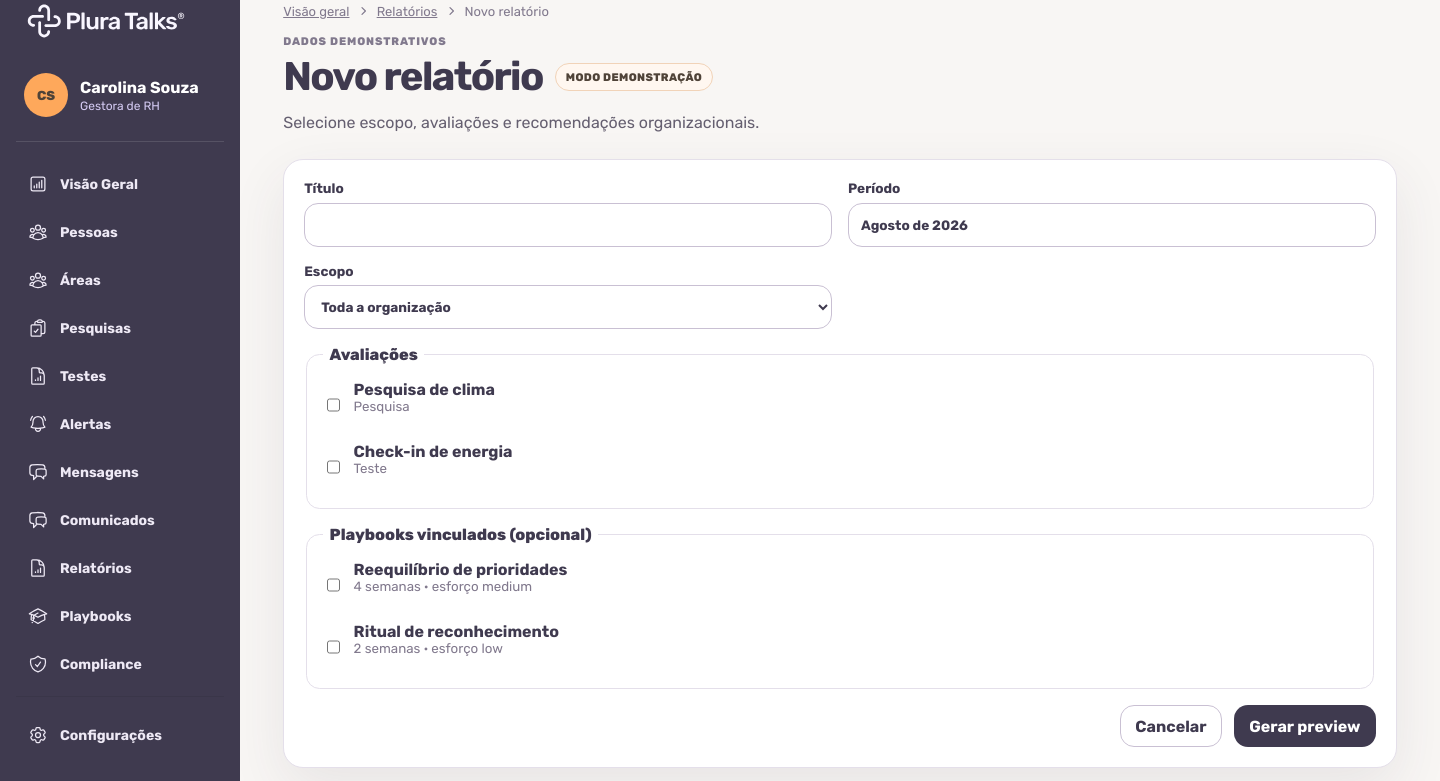
Test case: fluxo de relatórios › bloqueia o preview por área quando a coorte é insuficiente
The width and height of the screenshot is (1440, 781).
Select "Área específica" in the dropdown labelled "Escopo" at (568, 307), box [304,285,832,329]
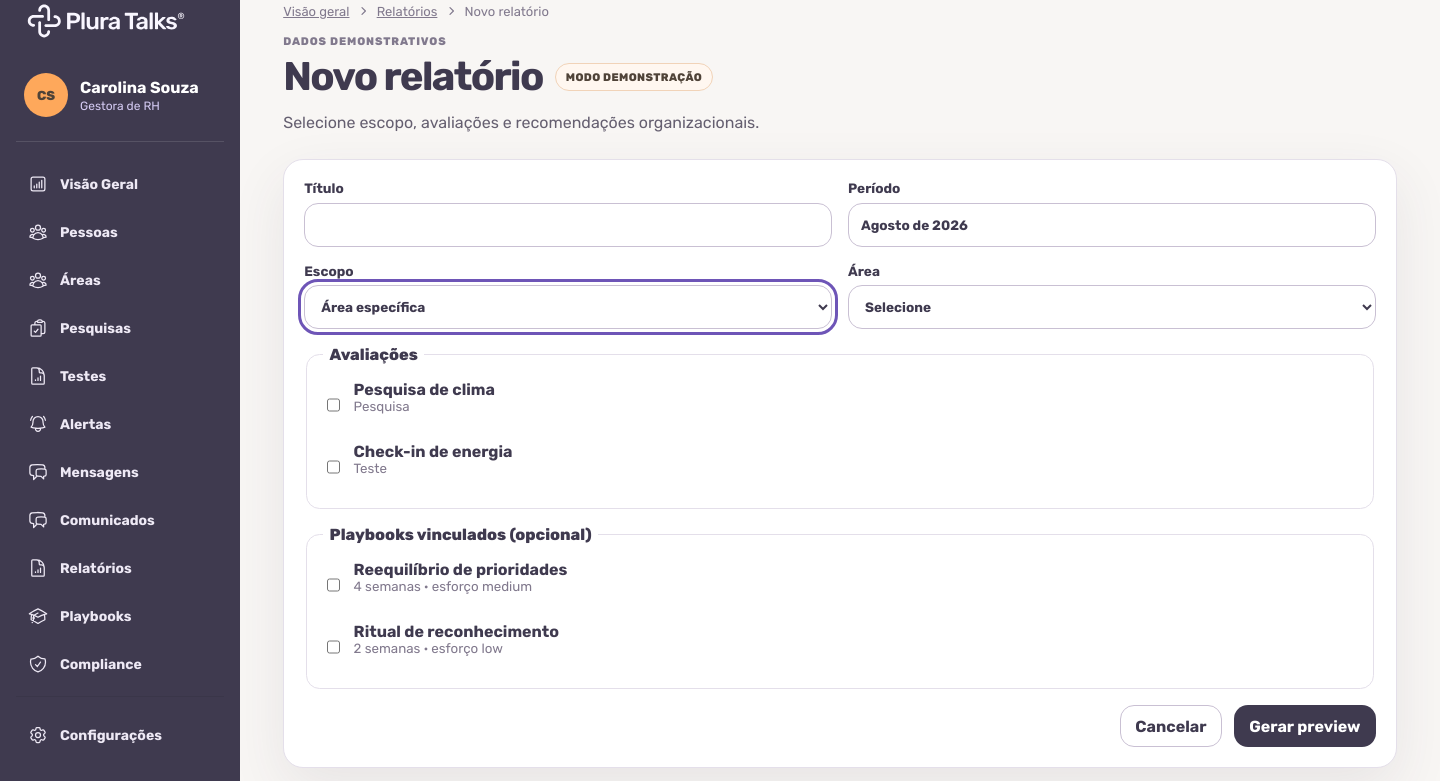
Select "Jurídico" in the dropdown labelled "Área" at (1112, 307), box [848,285,1376,329]
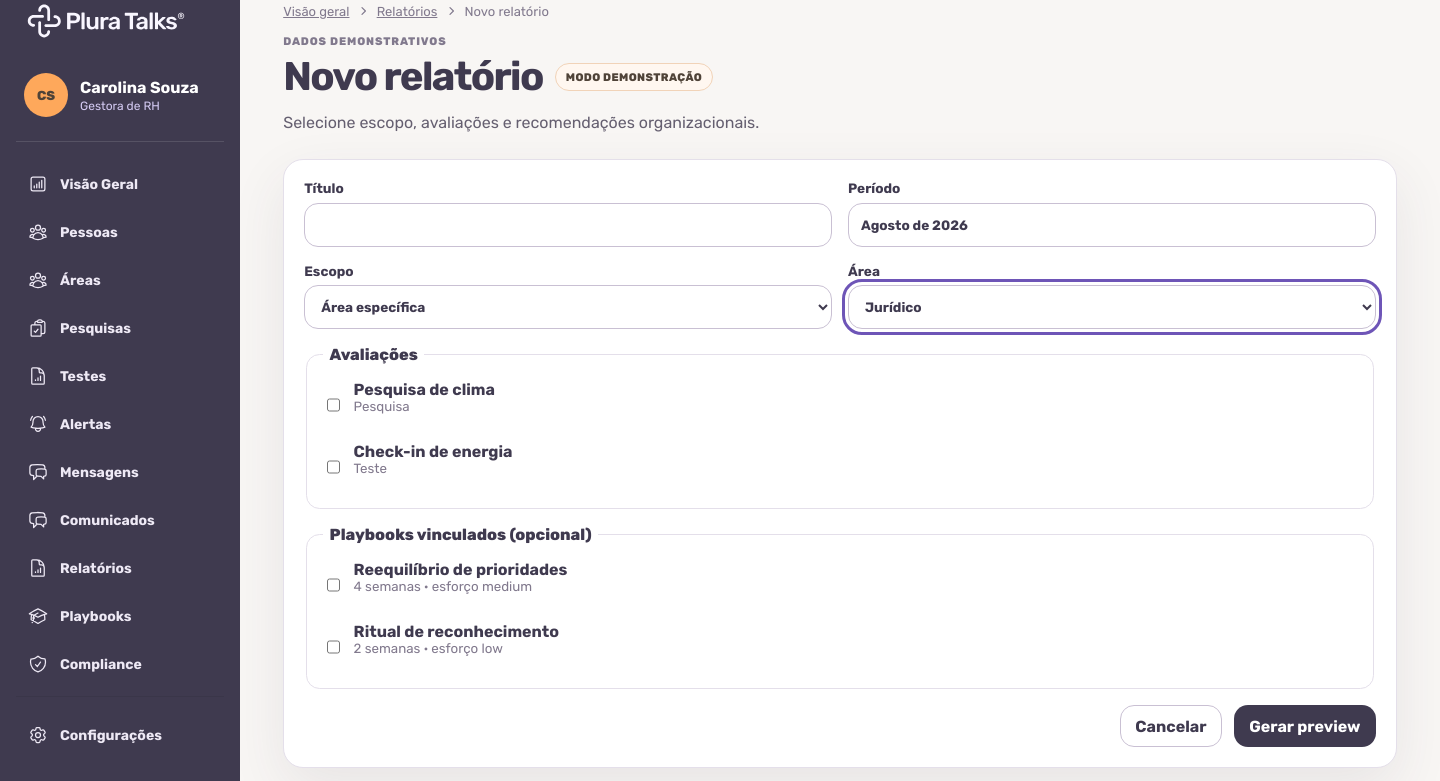
Click the checkbox labelled "Pesquisa de clima Pesquisa" at (334, 405), box [327,383,340,427]
(page scrolled)
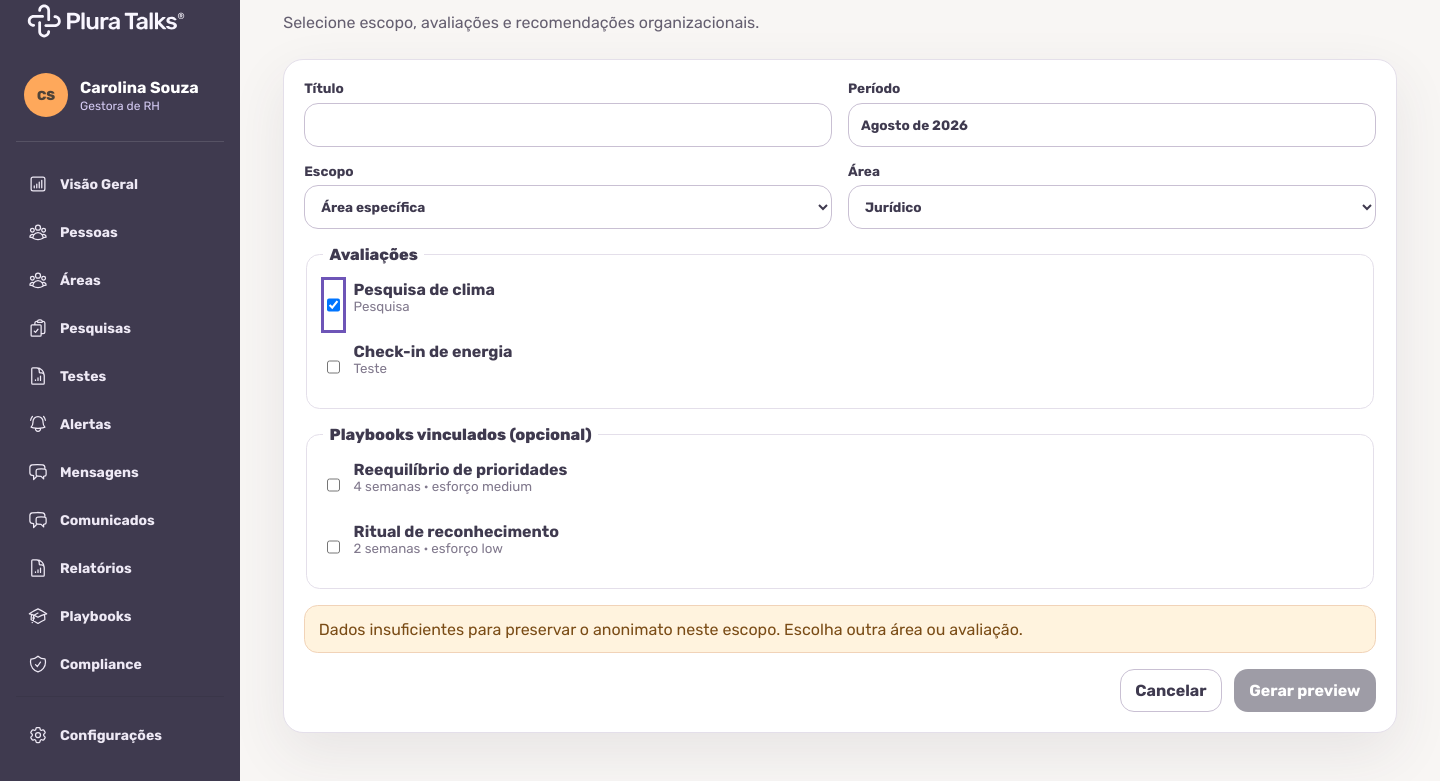
Expected: the text "Dados insuficientes para preservar o anonimato neste escopo" is shown, [319,620,1023,638]
Expected: the button "Gerar preview" is disabled, [1234,669,1376,712]
